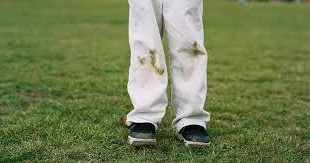earth: (190, 40, 201, 58), (149, 50, 155, 65), (156, 68, 164, 75)
